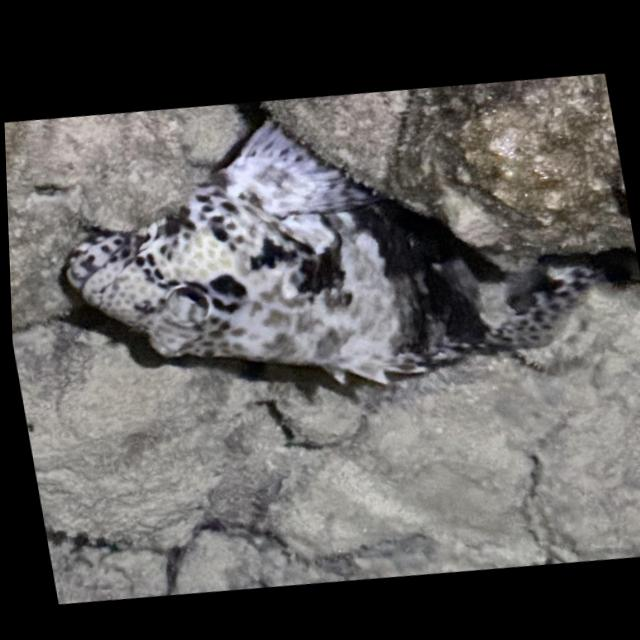Groupers: (27, 53, 640, 449)
